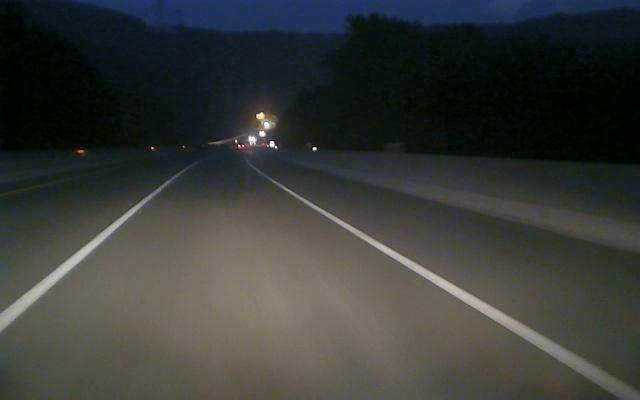lane: (261, 174, 640, 400), (0, 172, 180, 334)
